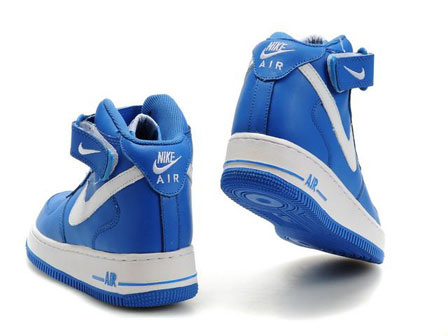Air Force One Blue: (214, 12, 401, 273), (19, 88, 206, 313)
